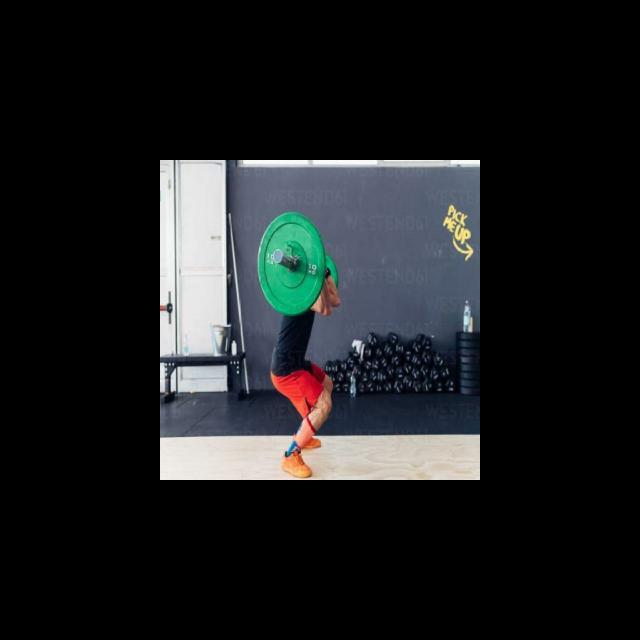barbell: (256, 209, 328, 317)
